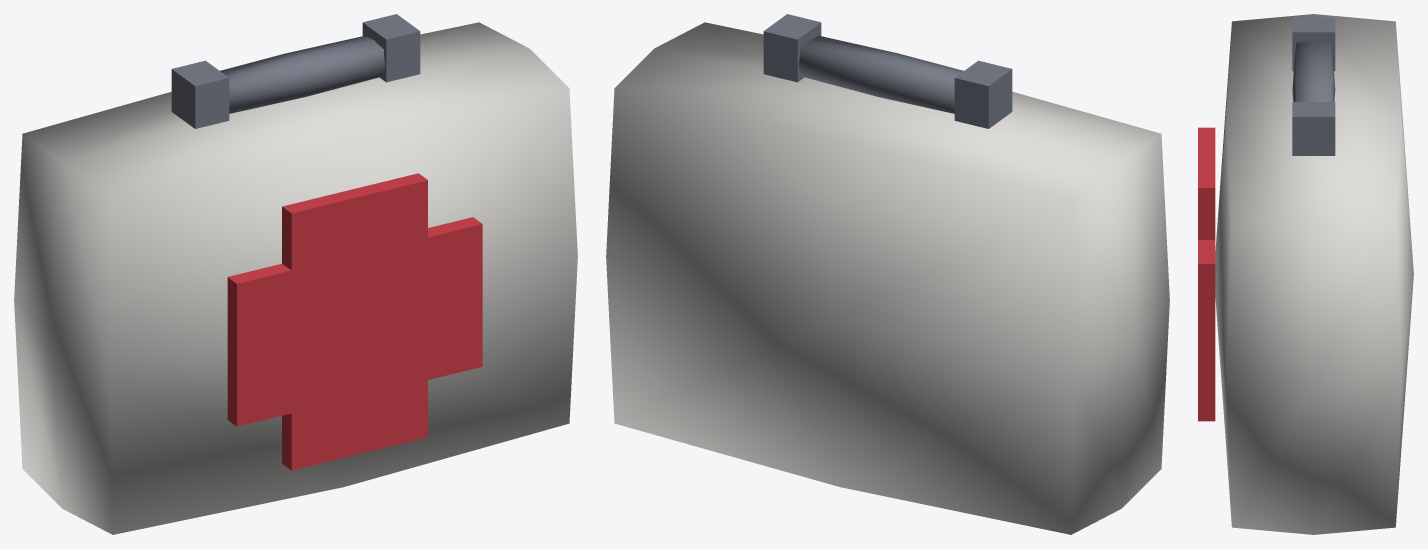
Rendered from first_aid_box.glb.
3 views of the same model, side by side, from view 1: azimuth 30°, elevation 25°; view 2: azimuth 150°, elevation 25°; view 3: azimuth 270°, elevation 25° (orthographic). The views are drawn at different scales.
Parts seen in each view (by area): view 1: root; view 2: root; view 3: root.
Part boxes in pixels (x1,y1,x2,y2): root: [14, 14, 577, 534]; root: [606, 14, 1169, 534]; root: [1198, 14, 1413, 534].
Bounding box in the file's own units: 0.36 × 0.29 × 0.151.
